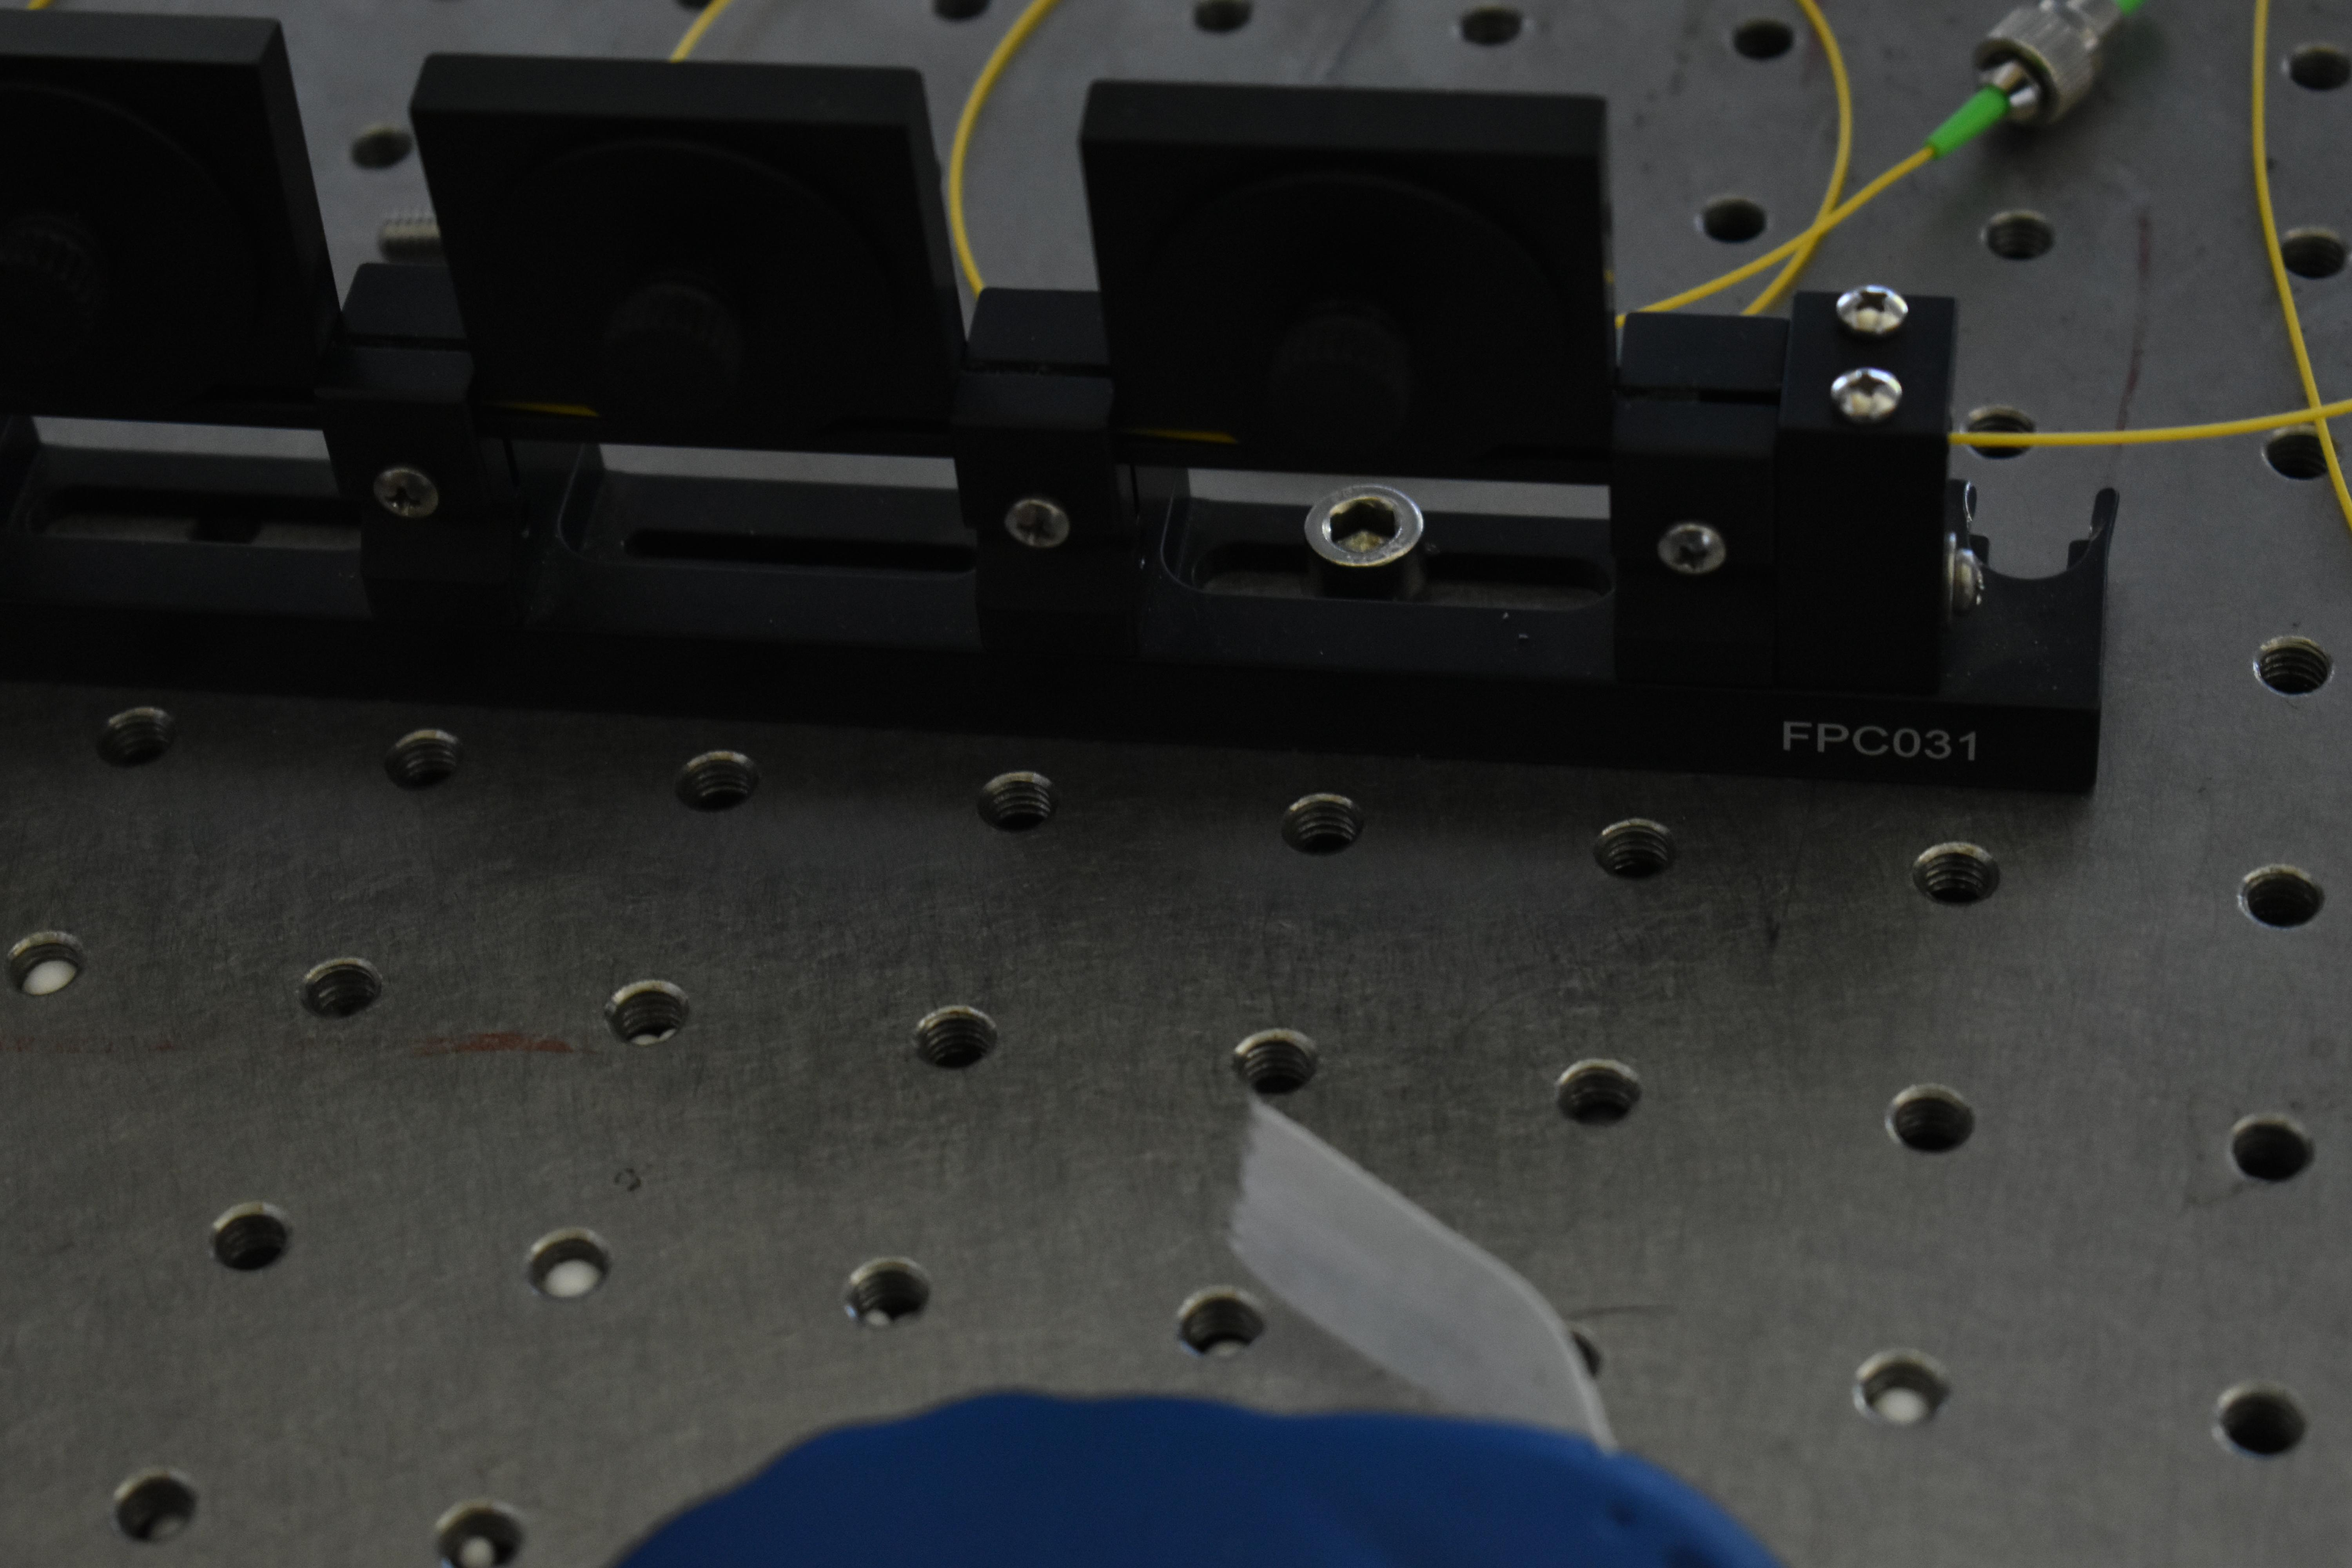paddle_polarization_controller: (2, 12, 2114, 798)
